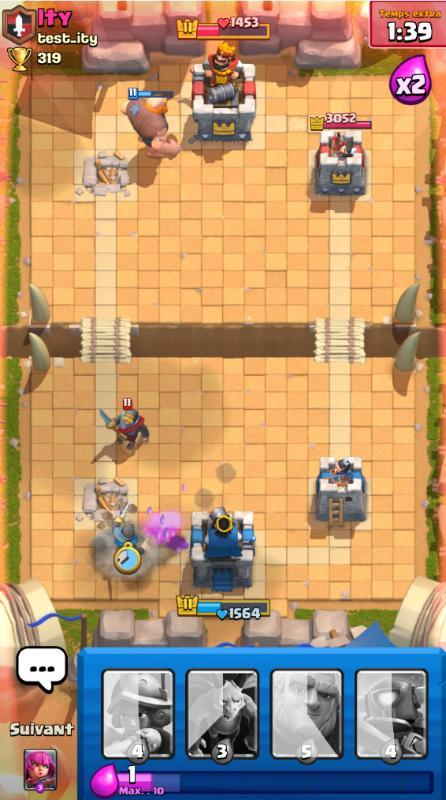chevalier: (110, 493, 152, 556), (98, 399, 149, 450)
geant: (120, 87, 181, 160)
